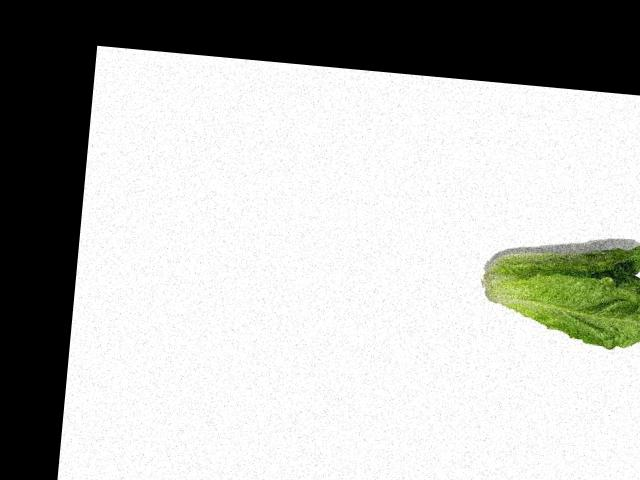lettuce: (476, 232, 640, 351)
